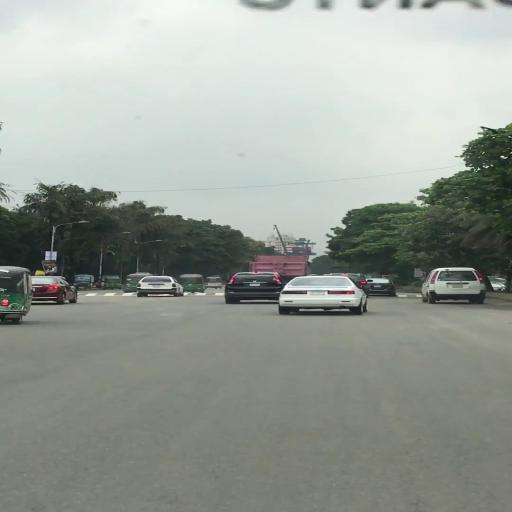car: (280, 278, 357, 316), (32, 276, 80, 306), (138, 276, 179, 298), (371, 278, 398, 297)
minivan: (420, 268, 488, 306)
suv: (226, 273, 287, 305)
three wheelers (CNG): (14, 266, 33, 325), (180, 275, 206, 294), (104, 277, 124, 290), (207, 277, 225, 291)
truck: (248, 255, 312, 276)
